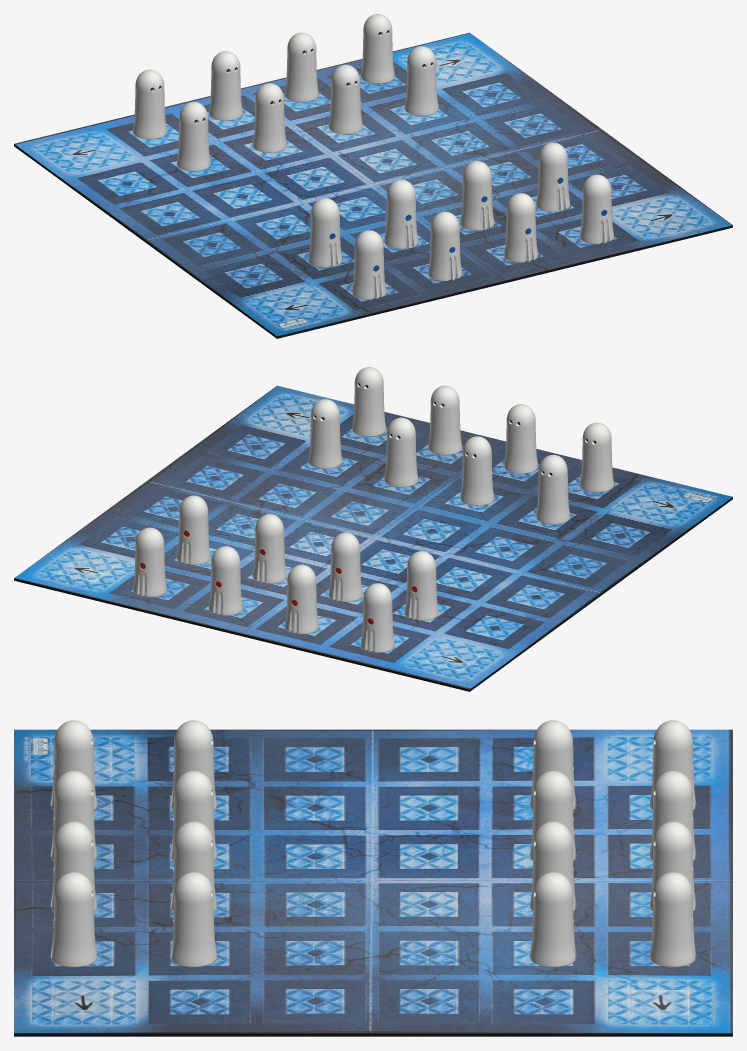
Rendered from geister-set.glb.
3 views of the same model, one above another, from view 1: azimuth 30°, elevation 25°; view 2: azimuth 150°, elevation 25°; view 3: azimuth 270°, elevation 25° (orthographic). The views are drawn at different scales.
Parts seen in each view (by area): view 1: board, red_proto.006, red_proto.007, red_proto.008, red_proto.003, red_proto.001, red_proto.004, red_proto.005, red_proto.002, blue_proto.006, blue_proto.002, blue_proto.005 (+5 smaller); view 2: board, blue_proto.006, blue_proto.007, blue_proto.008, blue_proto.003, blue_proto.001, blue_proto.004, blue_proto.005, blue_proto.002, red_proto.006, red_proto.002, red_proto.005 (+5 smaller); view 3: board, blue_proto.008, red_proto.008, blue_proto.004, red_proto.004, blue_proto.007, red_proto.007, blue_proto.006, red_proto.006, blue_proto.005, red_proto.005, blue_proto.003 (+5 smaller).
Part boxes in pixels (bbox=[...]): board: bbox=[14, 32, 732, 338]; red_proto.006: bbox=[252, 83, 286, 152]; red_proto.007: bbox=[328, 64, 362, 134]; red_proto.008: bbox=[404, 46, 438, 115]; red_proto.003: bbox=[284, 32, 318, 102]; red_proto.001: bbox=[133, 69, 166, 139]; red_proto.004: bbox=[360, 14, 394, 83]; red_proto.005: bbox=[176, 101, 210, 171]; red_proto.002: bbox=[208, 51, 242, 120]; blue_proto.006: bbox=[384, 179, 418, 249]; blue_proto.002: bbox=[428, 211, 462, 281]; blue_proto.005: bbox=[308, 198, 342, 267]; board: bbox=[14, 385, 732, 691]; blue_proto.006: bbox=[460, 436, 494, 505]; blue_proto.007: bbox=[384, 417, 418, 487]; blue_proto.008: bbox=[308, 399, 342, 468]; blue_proto.003: bbox=[428, 385, 462, 455]; blue_proto.001: bbox=[580, 422, 613, 492]; blue_proto.004: bbox=[352, 367, 386, 436]; blue_proto.005: bbox=[536, 454, 570, 524]; blue_proto.002: bbox=[504, 404, 538, 473]; red_proto.006: bbox=[328, 532, 362, 602]; red_proto.002: bbox=[284, 564, 318, 634]; red_proto.005: bbox=[404, 551, 438, 620]; board: bbox=[14, 729, 732, 1036]; blue_proto.008: bbox=[170, 872, 216, 967]; red_proto.008: bbox=[530, 872, 576, 967]; blue_proto.004: bbox=[50, 872, 97, 967]; red_proto.004: bbox=[649, 872, 696, 967]; blue_proto.007: bbox=[170, 821, 216, 911]; red_proto.007: bbox=[530, 821, 576, 911]; blue_proto.006: bbox=[170, 771, 216, 860]; red_proto.006: bbox=[530, 771, 576, 860]; blue_proto.005: bbox=[170, 720, 216, 809]; red_proto.005: bbox=[530, 720, 576, 809]; blue_proto.003: bbox=[50, 821, 97, 911].
Size of the model in its own units: 0.39 by 0.052 by 0.39.
8 materials, 1 textured.
